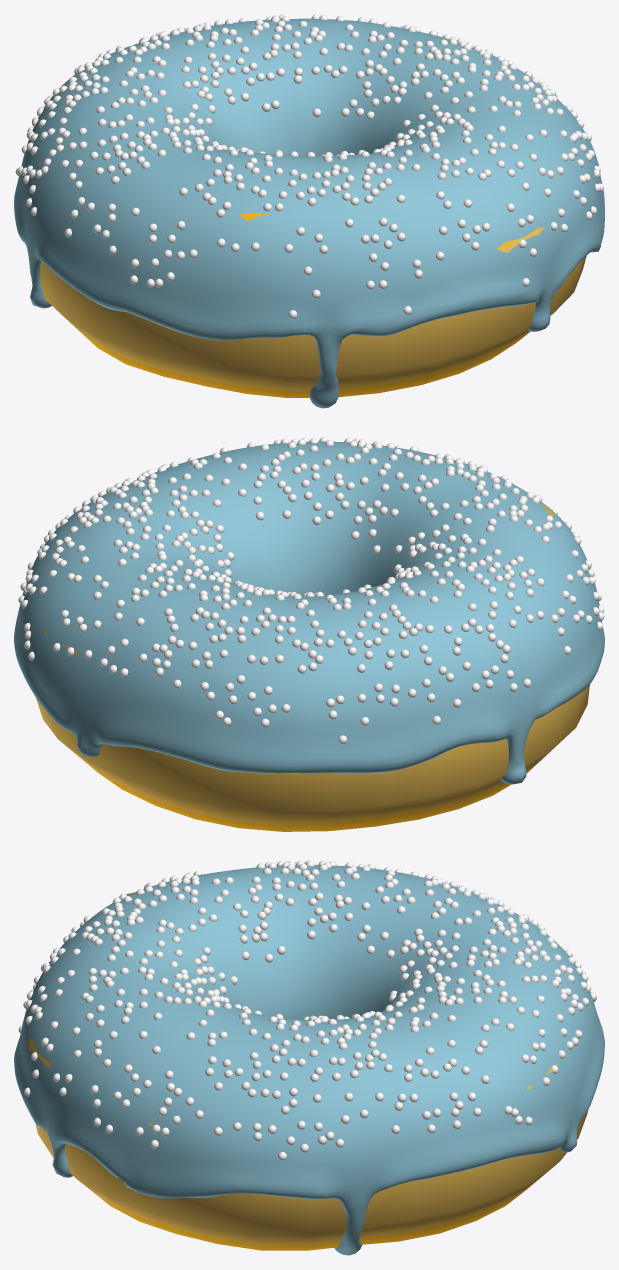
File: donut1.glb
3 renders of one model, top to bottom at view 1: azimuth 30°, elevation 25°; view 2: azimuth 150°, elevation 25°; view 3: azimuth 270°, elevation 25°, orthographic.
Visible parts, largest first — view 1: Icing.001, Donut.001; view 2: Icing.001, Donut.001; view 3: Icing.001, Donut.001.
Boxes of the visible parts, left/top/right/bottom form: Icing.001: left=14, top=18, right=604, bottom=408; Donut.001: left=29, top=173, right=594, bottom=397; Icing.001: left=14, top=441, right=604, bottom=784; Donut.001: left=36, top=503, right=589, bottom=831; Icing.001: left=14, top=865, right=604, bottom=1255; Donut.001: left=28, top=892, right=587, bottom=1250.
Size of the model in its own units: 0.1235 by 0.0509 by 0.1224.
Materials: 3 (1 with a texture image).
